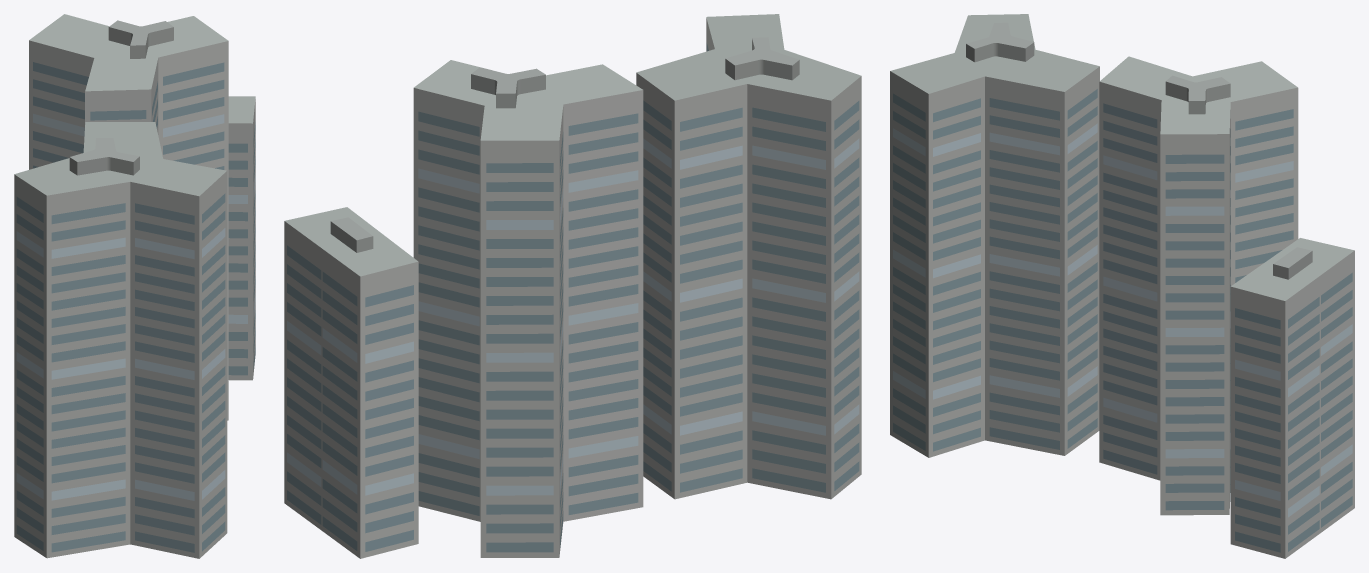
The model's file is apt-a15009401.glb.
3 views of the same model, side by side, from view 1: azimuth 30°, elevation 25°; view 2: azimuth 150°, elevation 25°; view 3: azimuth 270°, elevation 25° (orthographic). The views are drawn at different scales.
Parts seen in each view (by area): view 1: apt-a15009401; view 2: apt-a15009401; view 3: apt-a15009401.
Boxes of the visible parts, <box> form: apt-a15009401: <box>14,14,255,558</box>; apt-a15009401: <box>284,14,861,558</box>; apt-a15009401: <box>890,14,1354,558</box>.
Size of the model in its own units: 68.89 by 70 by 74.75.
